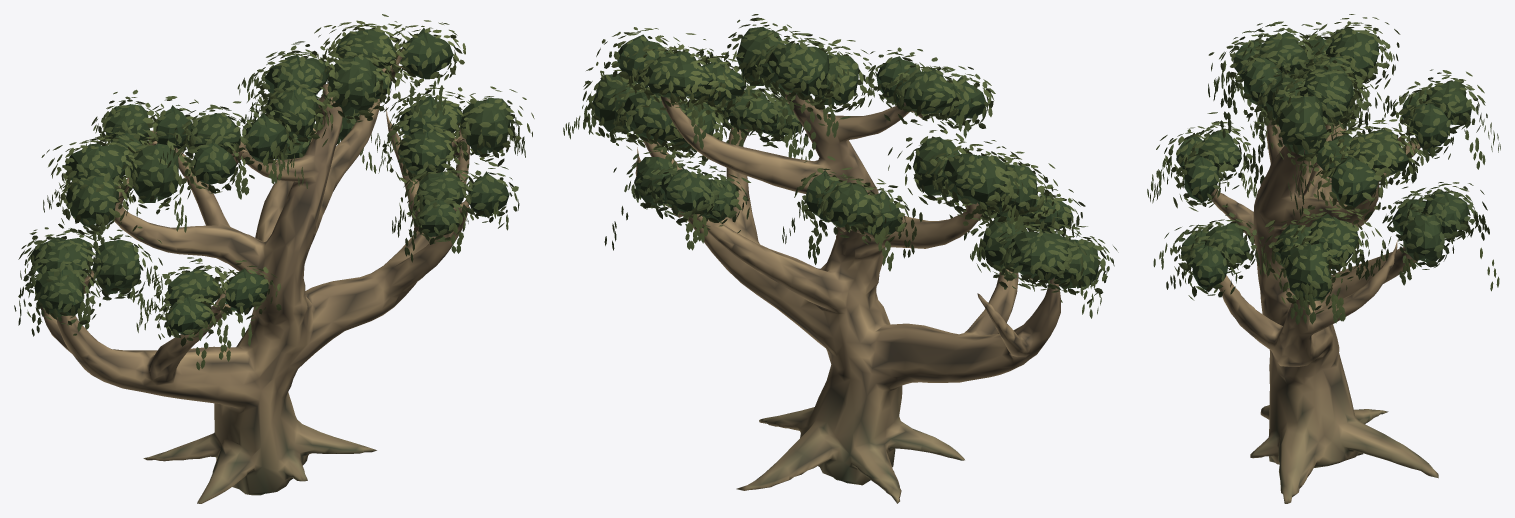
File: longbough-study.glb
3 views of the same model, side by side, from view 1: azimuth 30°, elevation 25°; view 2: azimuth 150°, elevation 25°; view 3: azimuth 270°, elevation 25° (orthographic). The views are drawn at different scales.
Visible parts, largest first — view 1: crown-foliage, living-wood; view 2: crown-foliage, living-wood; view 3: crown-foliage, living-wood.
Boxes of the visible parts, <box> form: crown-foliage: <box>14,14,534,370</box>; living-wood: <box>40,49,469,503</box>; crown-foliage: <box>563,14,1118,318</box>; living-wood: <box>635,92,1060,503</box>; crown-foliage: <box>1147,14,1500,324</box>; living-wood: <box>1186,70,1438,503</box>.
Bounding box in the file's own units: 10.73 × 8.43 × 6.27.
